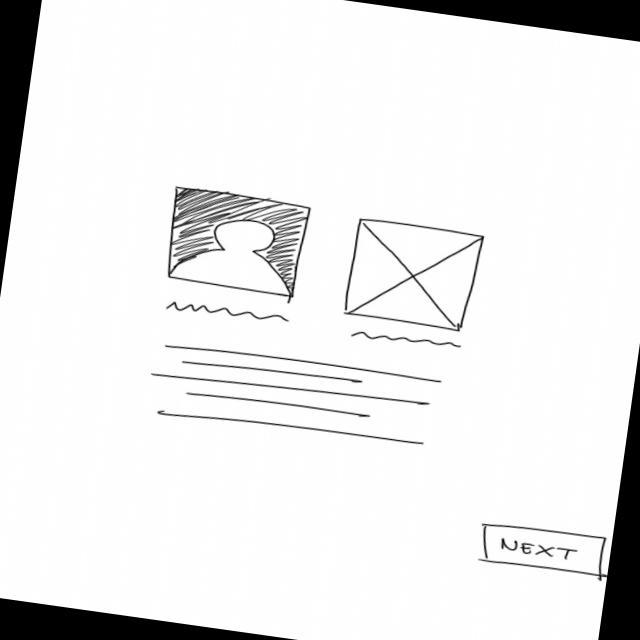button: (478, 518, 611, 583)
image: (158, 182, 314, 302), (343, 215, 488, 335)
text: (164, 298, 294, 331), (350, 327, 464, 354)
textbox: (144, 338, 447, 458)
